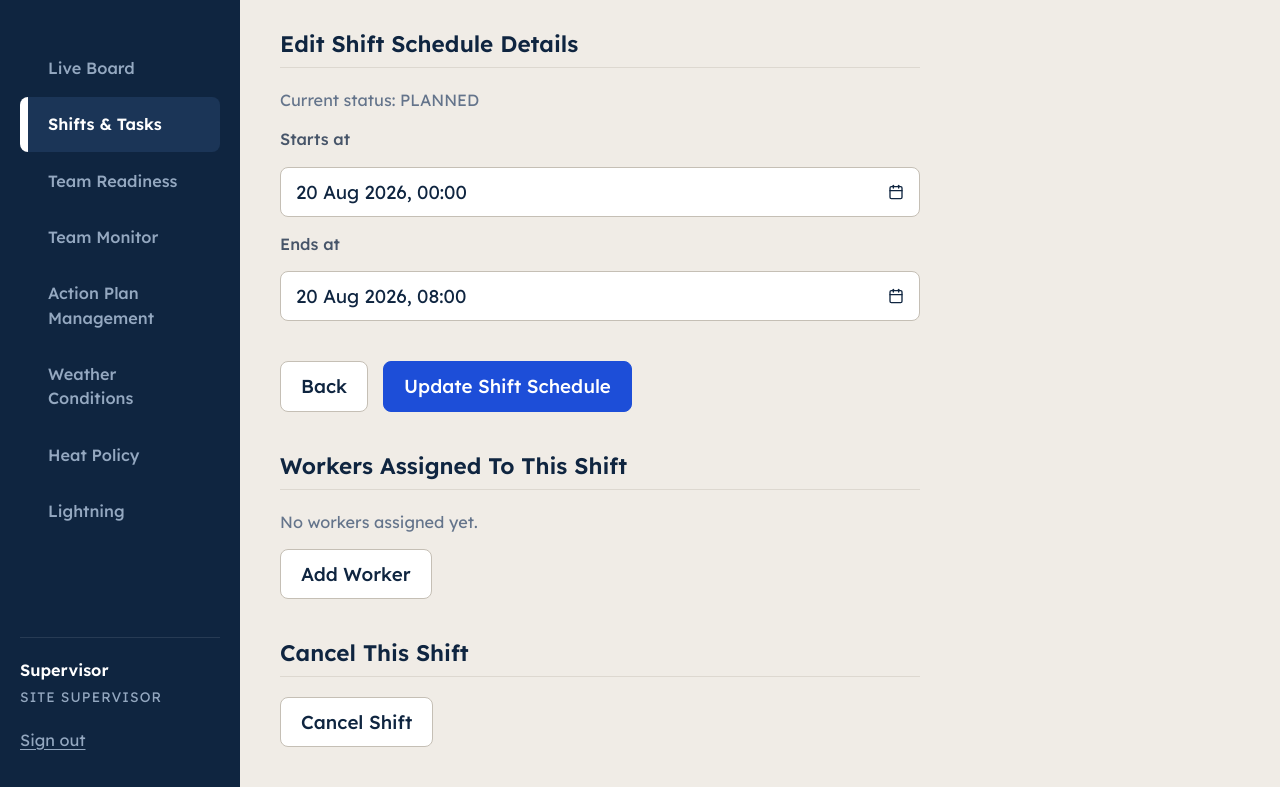
Test: EditShiftForm › keeps Confirm cancel disabled until a reason is entered
(page scrolled)
Click the button "Cancel Shift" at [357, 722], box [280, 697, 433, 747]
(page scrolled)
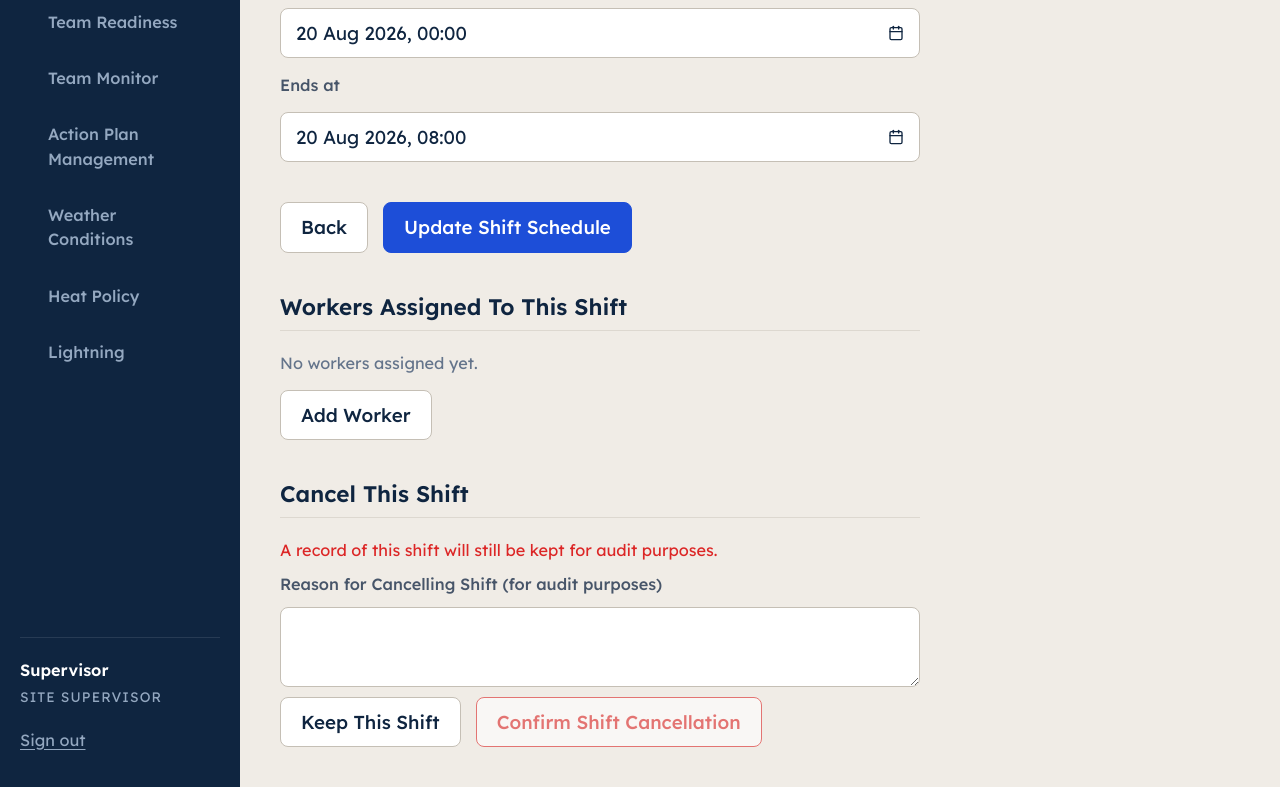
Now the button "Confirm Shift Cancellation" is disabled, box [476, 697, 762, 747]
Type "Bad weather" into the text box labelled "Reason for Cancelling Shift (for audit purposes)" at [600, 647], box [280, 607, 920, 687]
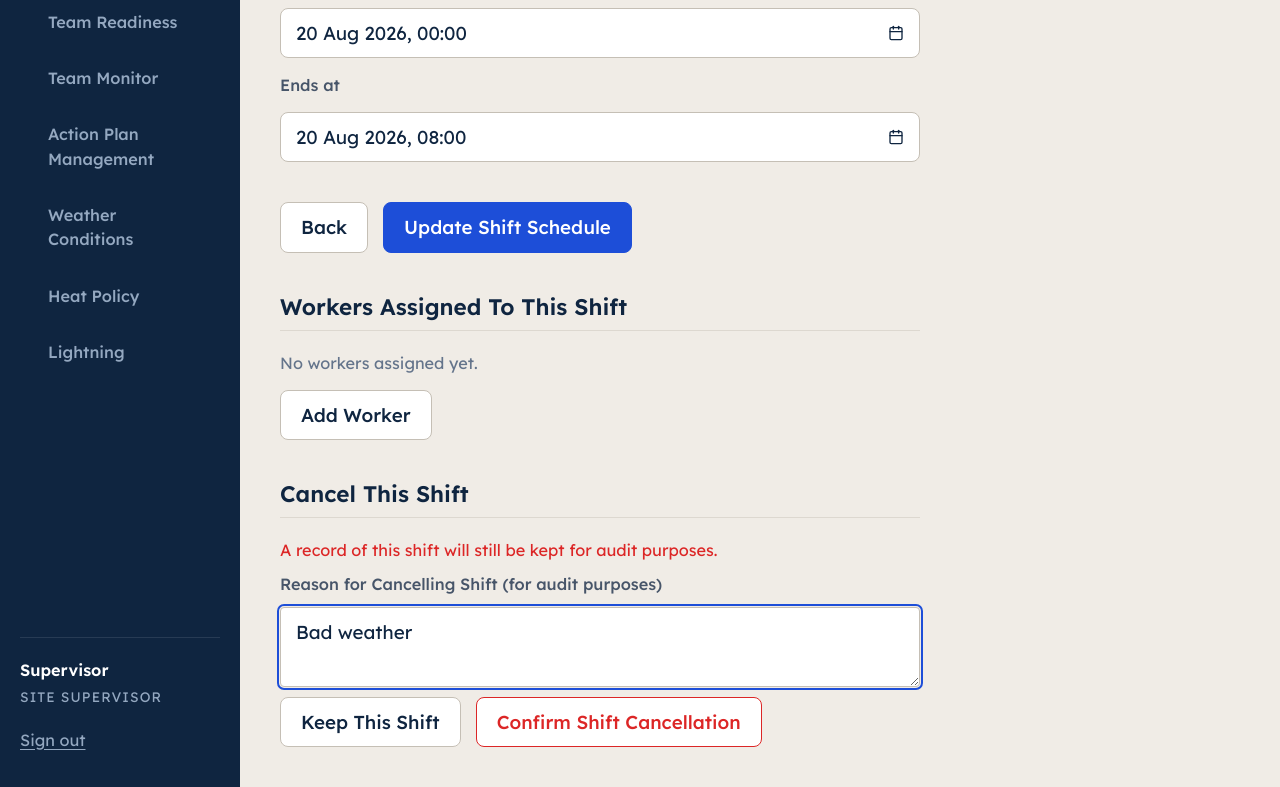
Now the button "Confirm Shift Cancellation" is enabled, box [476, 697, 762, 747]
